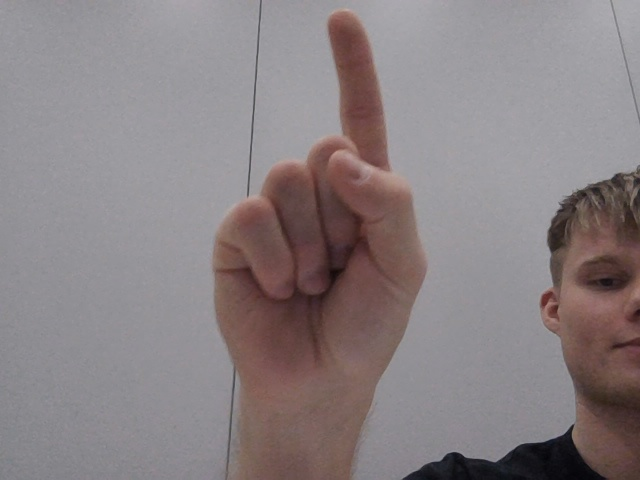up: (173, 5, 456, 450)
